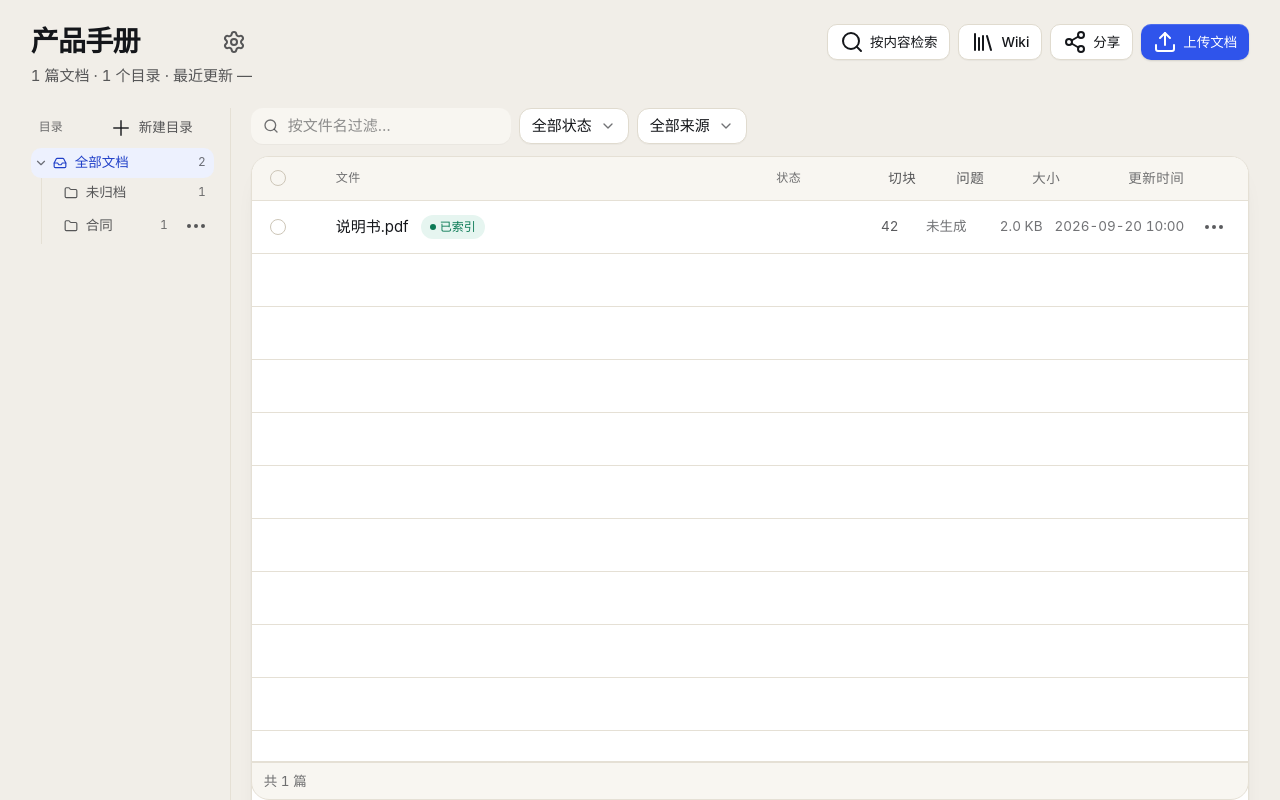
Test: 重新解析 › 先确认后果再动手：弹窗说清解析产物/切块/向量都重做，取消则一个请求都不发
Check: the text "说明书.pdf" is shown, box [336,215,409,238]
What coordinates should you click on to do the following:
click the button named "说明书.pdf 的操作"
I would click on:
 (1214, 226)
Its box is [1196,208,1232,244].
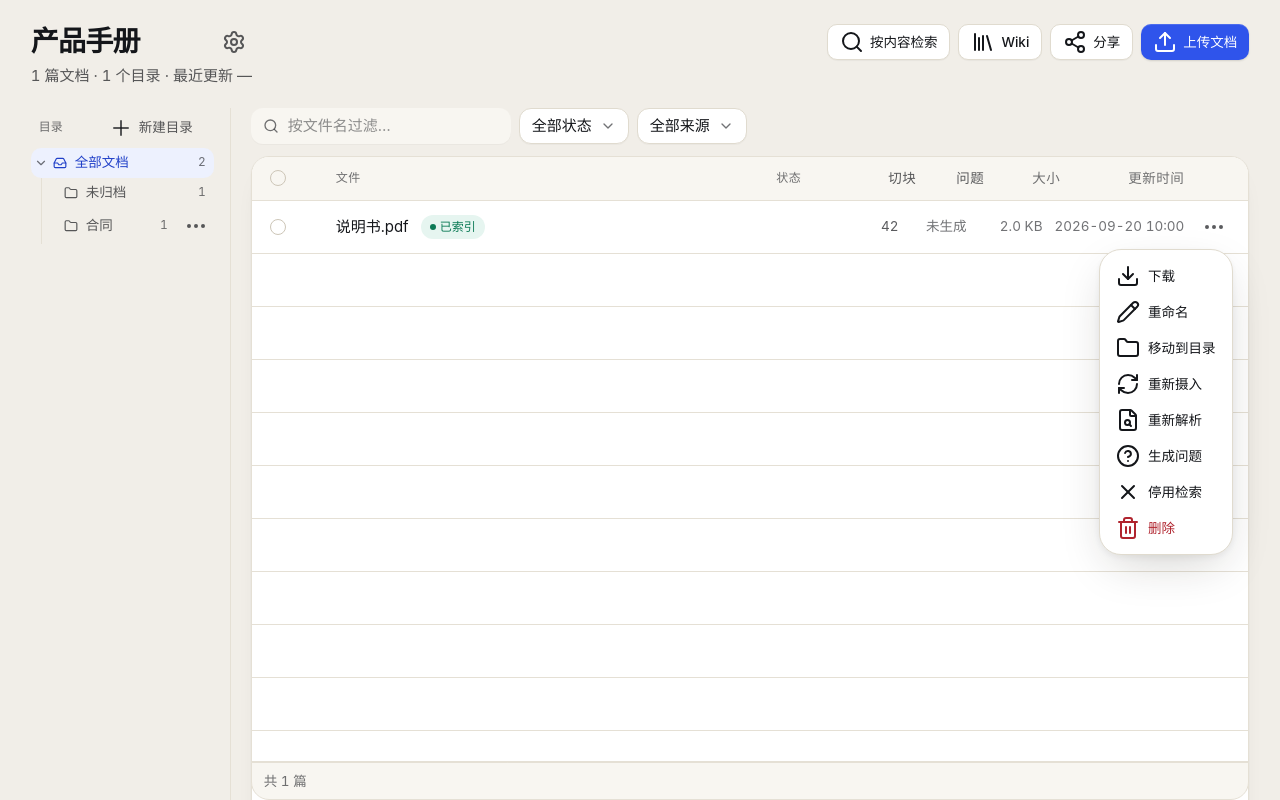
What coordinates should you click on to do the following:
click the menu item "重新解析"
I would click on:
 (1159, 420)
Its box is [1116,408,1202,432].
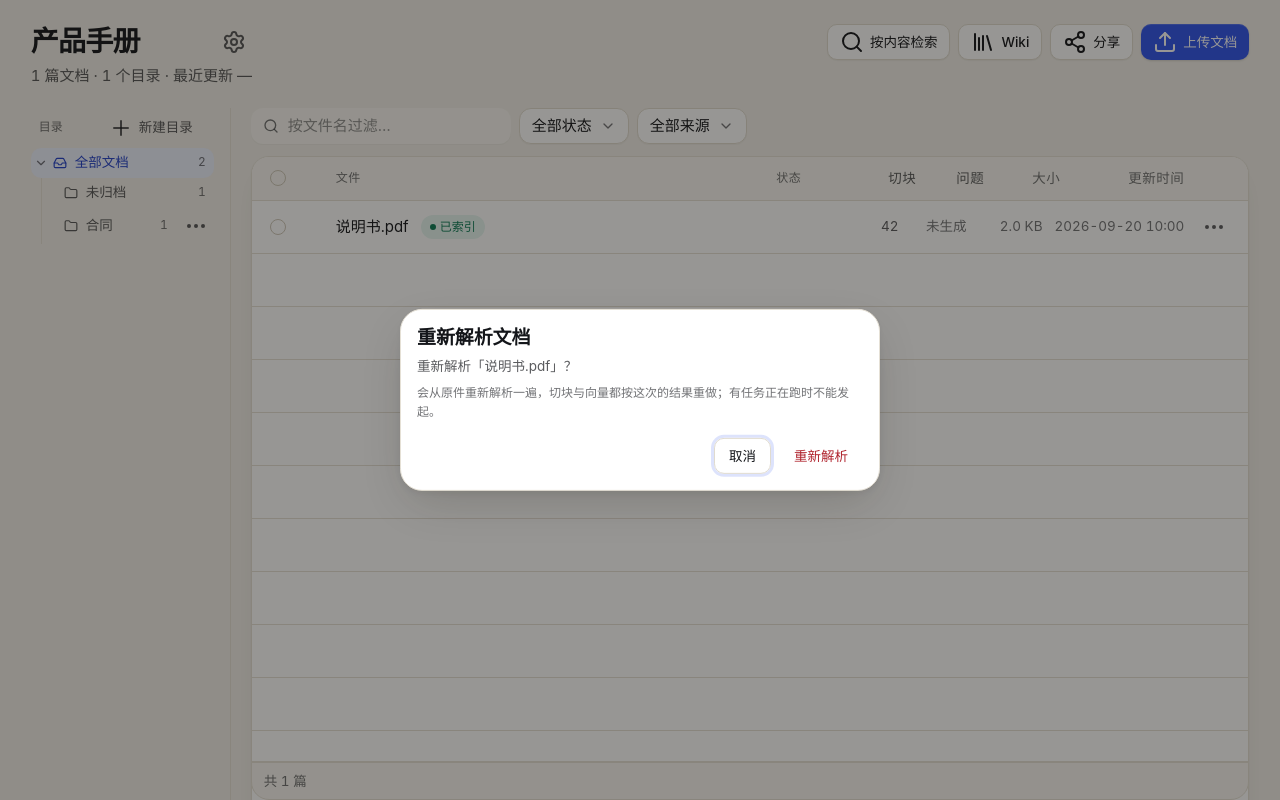
Check: the text "重新解析「说明书.pdf」？" is shown, box [417,356,577,376]
Check: the text "会从原件重新解析一遍，切块与向量都按这次的结果重做；有任务正在跑时不能发起。" is shown, box [417,382,863,422]
What coordinates should you click on to do the following:
click the button "取消"
I would click on:
 (742, 456)
Its box is [714,438,771,474].
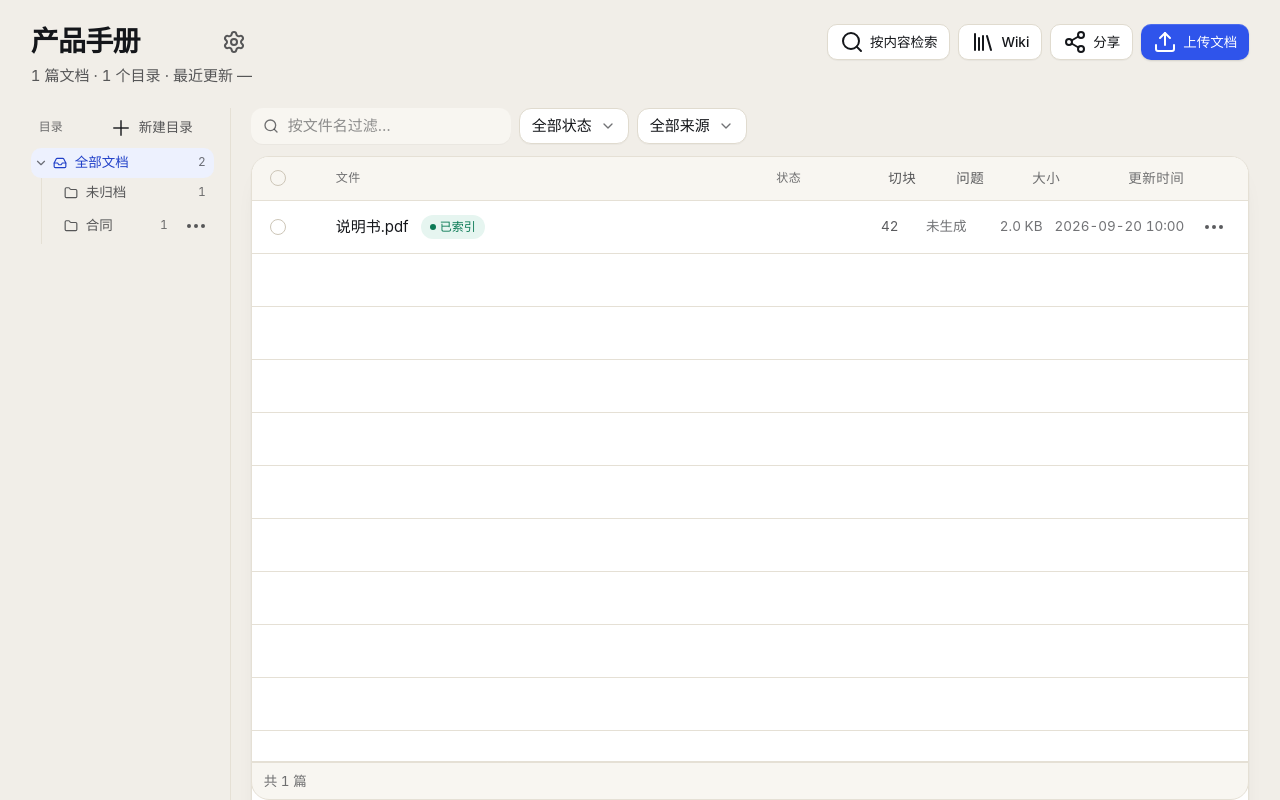
Check: the heading "重新解析文档" is gone
